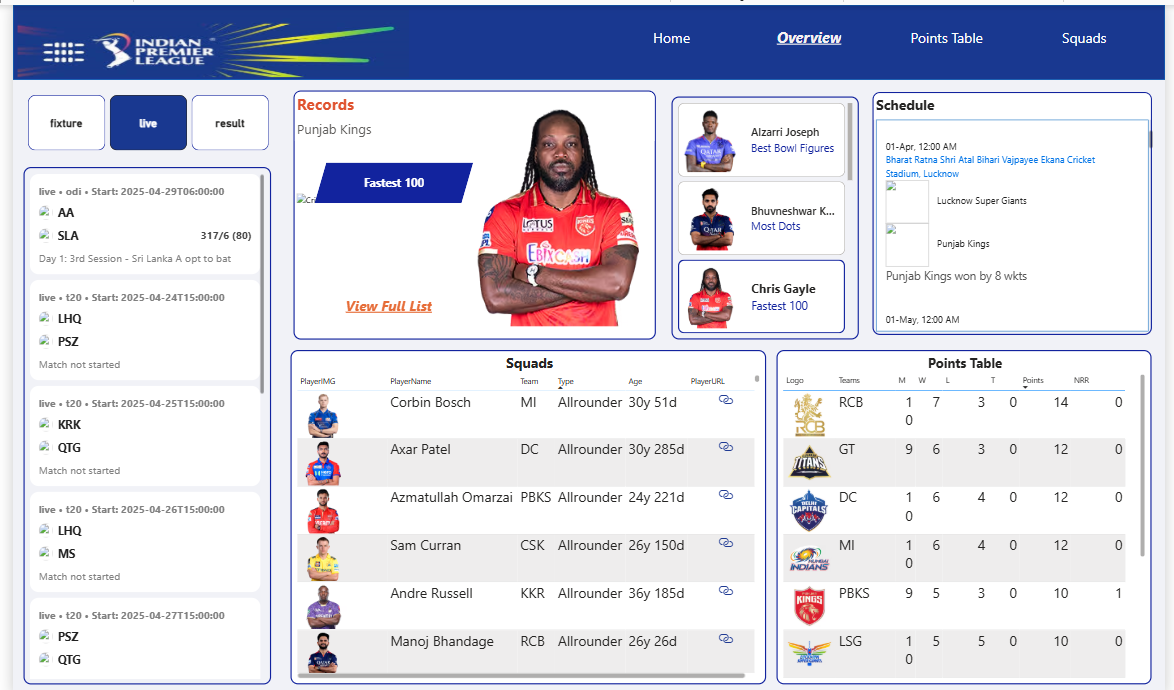

The dashboard page shown, as its layout file describes it:
{"tool":"powerbi","page":{"name":"Overview","canvas":[2000,1200],"ordinal":1},"visuals":[{"type":"shape","box":[0,0,2000.6,130],"z":0},{"type":"shape","title":"Schedule","box":[1492.7,151.1,485.6,422],"z":0,"group":"g1"},{"type":"shape","title":"Records","box":[487.9,149.8,629.4,432.9],"z":1000,"group":"g2"},{"type":"htmlContent443BE3AD55E043BF878BED274D3A6855","fields":{"content":["All_matches_score.Score_cads"]},"box":[18.2,281.3,429.8,898.7],"z":2000},{"type":"advancedSlicerVisual","fields":{"Values":["All_matches_score.ms"]},"box":[20.8,151.1,429.8,106.8],"z":3000},{"type":"image","box":[2.6,2.6,690.3,127.6],"z":4000},{"type":"pageNavigator","box":[1029,13,948.2,86],"z":5000},{"type":"tableEx","title":"Squads","fields":{"Values":["Players.PlayerIMG","Players.PlayerName","Players.Team_SN","Players.Type","Players.Age","Players.PlayerURL"]},"box":[481.9,599.1,825.8,580.9],"z":6000},{"type":"tableEx","title":"Points Table","fields":{"Values":["Points_table.Logo","Points_table.Teams_SN","Sum(Points_table.matches)","Sum(Points_table.Wins)","Sum(Points_table.Loss)","Points_table.T","Points_table.Points","Points_table.NRR"]},"box":[1325.9,599.1,651.2,580.9],"z":7000},{"type":"advancedSlicerVisual","fields":{"Values":["Records.Name"]},"box":[1143.6,158.9,325.6,422],"z":8000},{"type":"htmlContent443BE3AD55E043BF878BED274D3A6855","title":" Schedule","fields":{"content":["Schedule.Results_cards"]},"box":[1494.4,210.6,490.7,348.7],"z":8000,"group":"g1"},{"type":"htmlContent443BE3AD55E043BF878BED274D3A6855","fields":{"content":["_measures.Bg_image"]},"box":[487.1,322.3,638.2,270],"z":9000,"group":"g2"},{"type":"group","id":"g1","title":"Group 1","box":[1492.7,151.1,492.3,422],"z":10000},{"type":"actionButton","box":[540,482.5,226.6,78.6],"z":11000,"group":"g2"},{"type":"cardVisual","fields":{"Data":["Min(Records.Name)"]},"box":[733.7,141.7,384.5,439.3],"z":12000,"group":"g2"},{"type":"shape","box":[523.6,275.4,276.1,70.8],"z":13000,"group":"g2"},{"type":"cardVisual","fields":{"Data":["Min(Records.Value)"]},"box":[533,340.5,224.4,151.7],"z":14000,"group":"g2"},{"type":"group","id":"g2","title":"Group 2","box":[487.1,141.7,638.2,450.7],"z":14001}]}

Visuals, with their boxes in screenshot pixels (x1, y1, x2, y2), scaled from the page's 2000x1200 canvas onto the 1174x690 screenshot:
shape: select_region(0, 0, 1173, 75)
"Schedule" shape: select_region(876, 87, 1161, 330)
"Records" shape: select_region(286, 86, 656, 335)
htmlContent443BE3AD55E043BF878BED274D3A6855 - All_matches_score.Score_cads: select_region(11, 162, 263, 678)
advancedSlicerVisual - All_matches_score.ms: select_region(12, 87, 265, 148)
image: select_region(2, 1, 407, 75)
pageNavigator: select_region(604, 7, 1161, 57)
"Squads" tableEx: select_region(283, 344, 768, 678)
"Points Table" tableEx: select_region(778, 344, 1161, 678)
advancedSlicerVisual - Records.Name: select_region(671, 91, 862, 334)
" Schedule" htmlContent443BE3AD55E043BF878BED274D3A6855: select_region(877, 121, 1165, 322)
htmlContent443BE3AD55E043BF878BED274D3A6855 - _measures.Bg_image: select_region(286, 185, 661, 341)
"Group 1" group: select_region(876, 87, 1165, 330)
actionButton: select_region(317, 277, 450, 323)
cardVisual - Min(Records.Name): select_region(431, 81, 656, 334)
shape: select_region(307, 158, 469, 199)
cardVisual - Min(Records.Value): select_region(313, 196, 445, 283)
"Group 2" group: select_region(286, 81, 661, 341)
